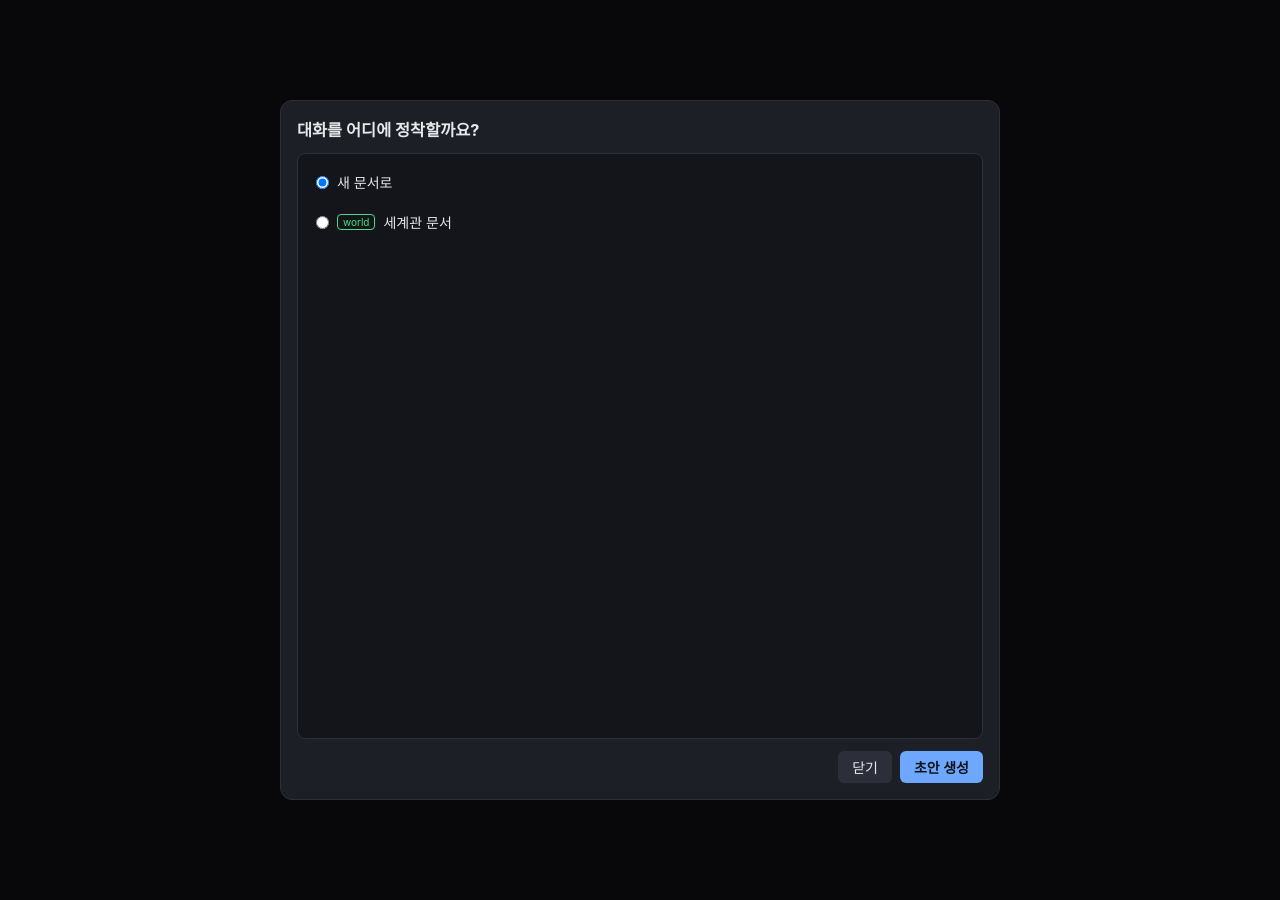
저장 실패 시 서버 detail을 그대로 보여주고 편집 화면에 남는다
Click the button "초안 생성" at (941, 767), box top-left (900, 751), bottom-right (983, 783)
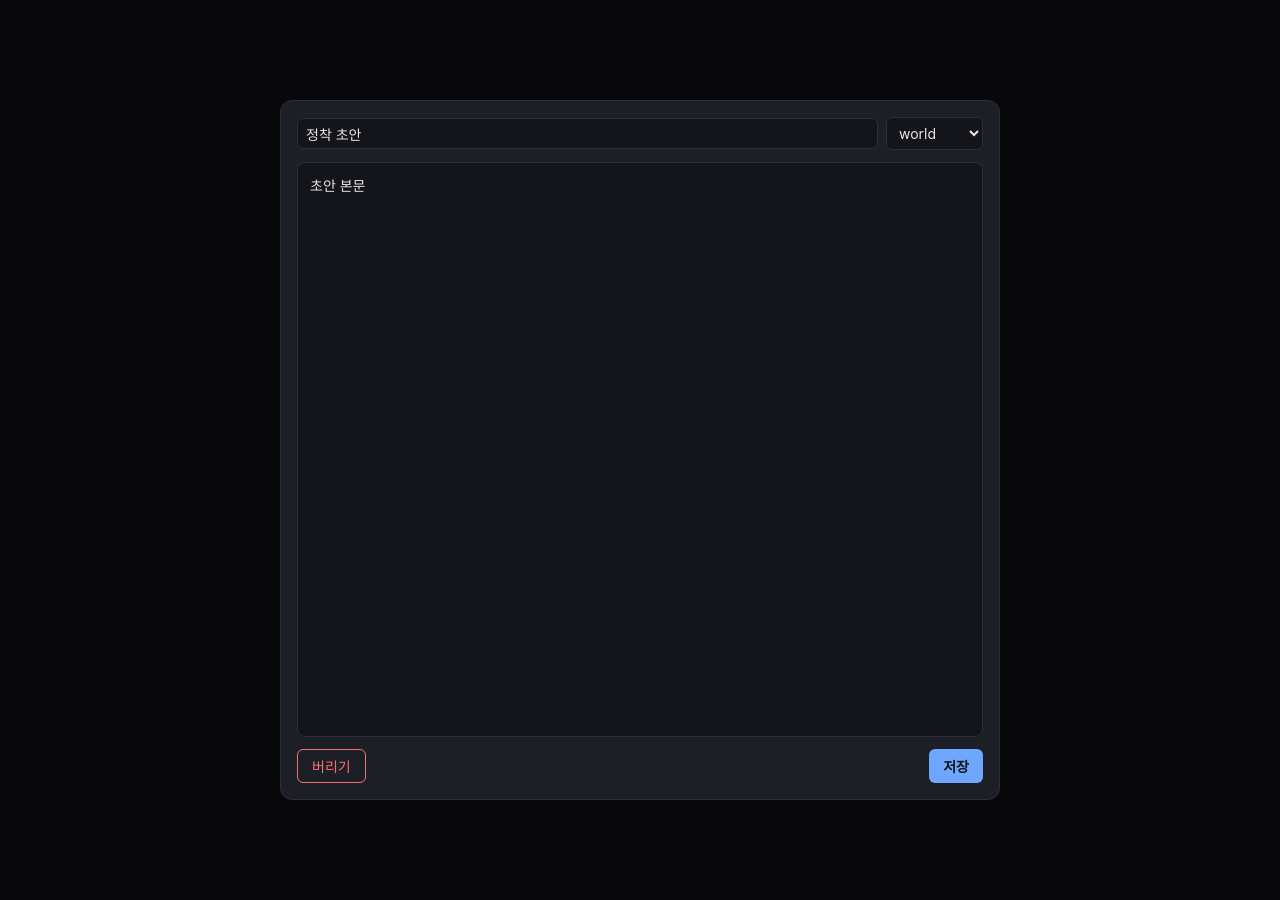
Check: the text box named "본문" is shown, box top-left (297, 162), bottom-right (983, 737)
Click the button "저장" at (956, 766), box top-left (929, 749), bottom-right (983, 783)
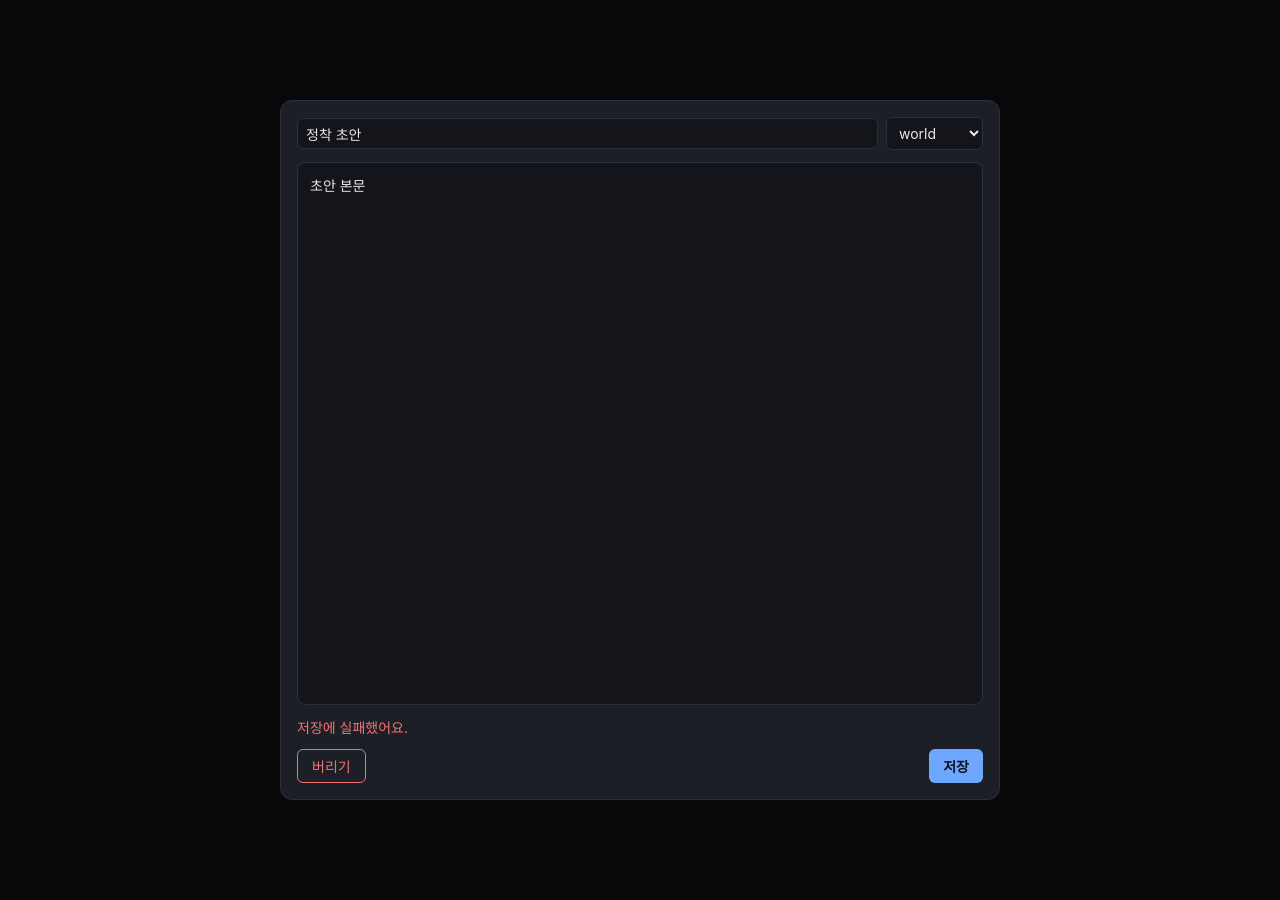
Check: the text box named "본문" holds "초안 본문", box top-left (297, 162), bottom-right (983, 705)
Check: the text "저장에 실패했어요." is shown, box top-left (297, 719), bottom-right (408, 736)
